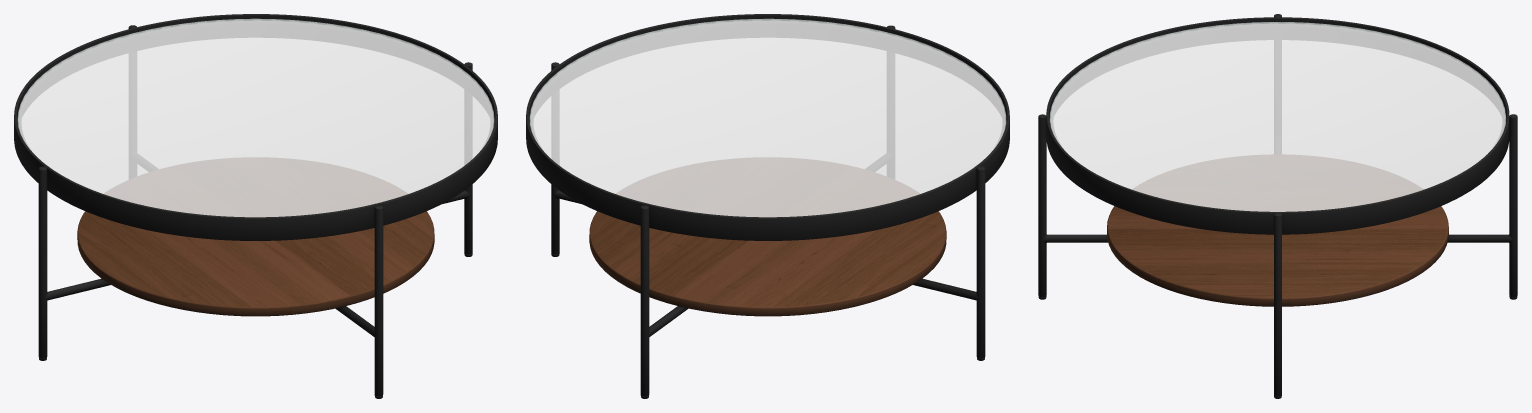
Rendered from Kameko Coffee Table.FBX.
3 renders of one model, left to right at view 1: azimuth 30°, elevation 25°; view 2: azimuth 150°, elevation 25°; view 3: azimuth 270°, elevation 25°, orthographic. The views are drawn at different scales.
Parts seen in each view (by area): view 1: GLASS001, WALNUT001, IRON_BLACK001; view 2: GLASS001, WALNUT001, IRON_BLACK001; view 3: GLASS001, WALNUT001, IRON_BLACK001.
Part boxes in pixels (box(x1,y1,x2,y2)): GLASS001: box(17, 18, 494, 217); WALNUT001: box(77, 158, 434, 316); IRON_BLACK001: box(14, 14, 497, 398); GLASS001: box(529, 18, 1006, 217); WALNUT001: box(589, 158, 946, 316); IRON_BLACK001: box(526, 14, 1009, 398); GLASS001: box(1049, 22, 1506, 211); WALNUT001: box(1107, 155, 1448, 306); IRON_BLACK001: box(1038, 14, 1517, 398).
Size of what is drawn, in the model's own units: 89.88 by 38.01 by 89.98.
